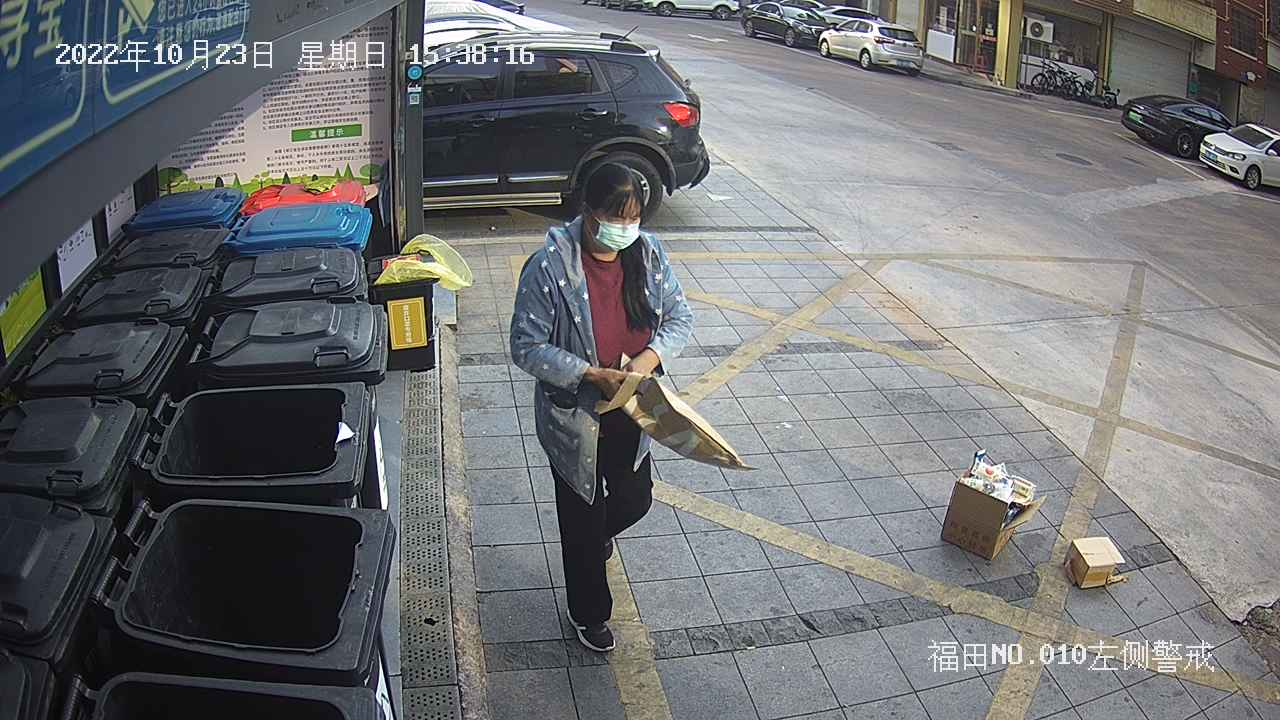garbage-bag: (590, 368, 759, 476)
person: (503, 156, 760, 662)
zhizhipin: (936, 445, 1053, 567), (1061, 532, 1132, 593)
